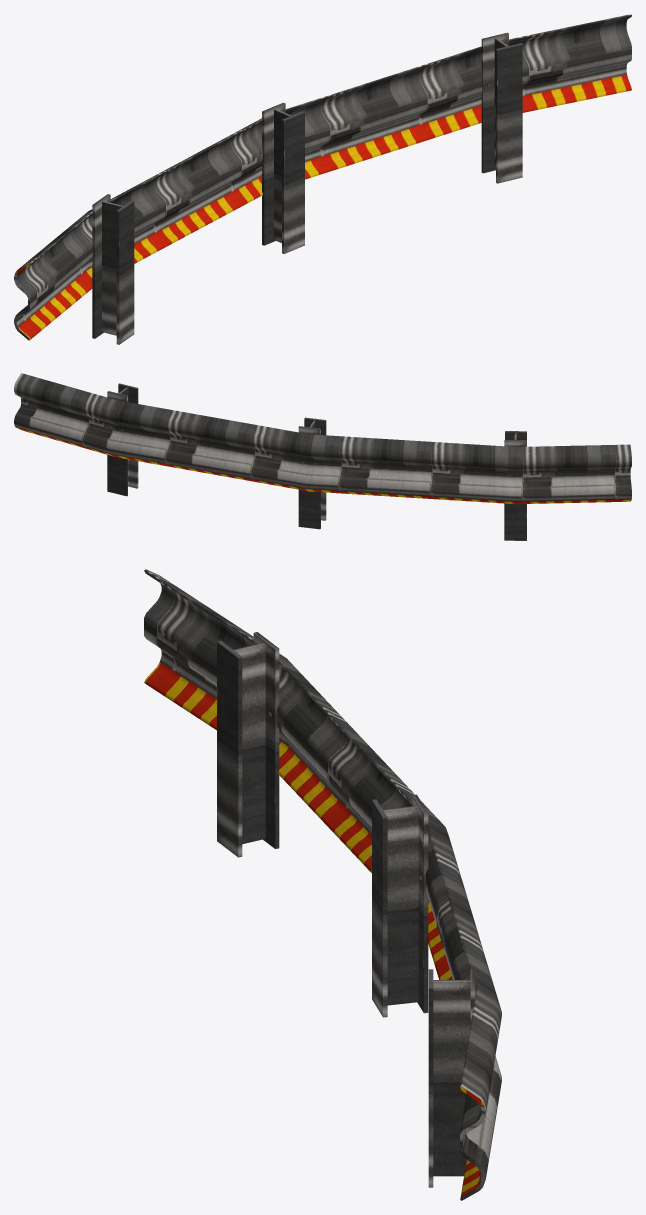
Rendered from Rail 14.FBX.
3 views of the same model, one above another, from view 1: azimuth 30°, elevation 25°; view 2: azimuth 150°, elevation 25°; view 3: azimuth 270°, elevation 25° (orthographic). The views are drawn at different scales.
Parts seen in each view (by area): view 1: guardrail_small_45deg_out; view 2: guardrail_small_45deg_out; view 3: guardrail_small_45deg_out.
Boxes of the visible parts, bbox=[...] form: guardrail_small_45deg_out: bbox=[14, 14, 631, 344]; guardrail_small_45deg_out: bbox=[14, 373, 631, 540]; guardrail_small_45deg_out: bbox=[144, 569, 501, 1200].
Size of the model in its own units: 568 by 101 by 164.
